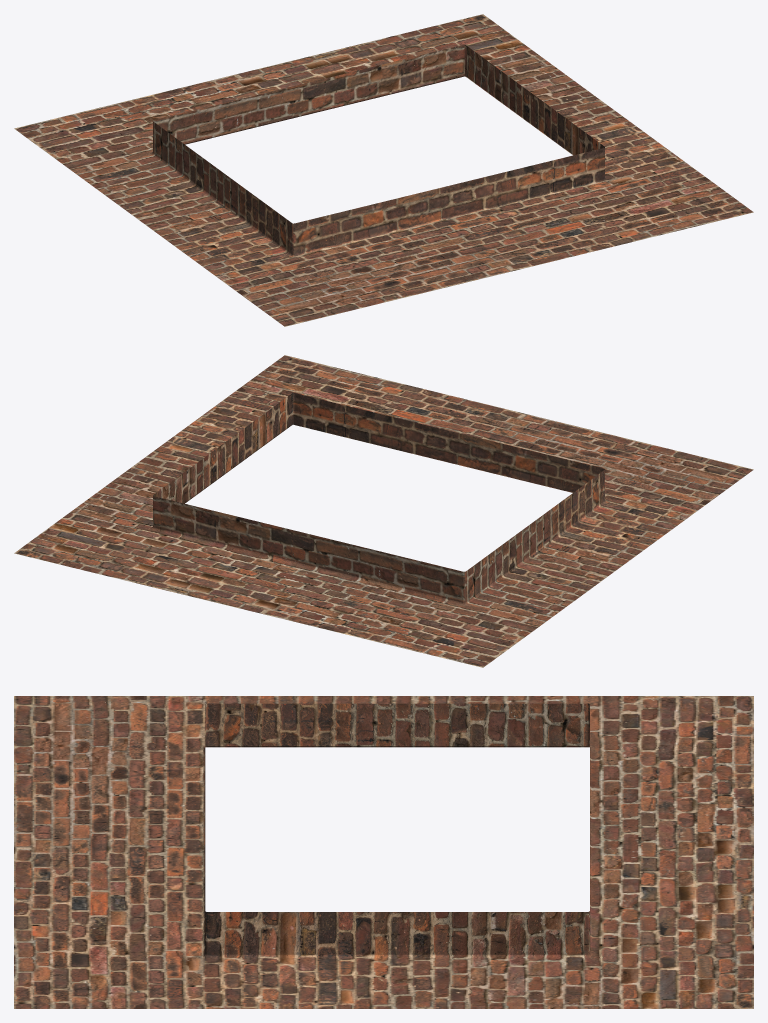
Rendered from wall_window_centered_large_01.gltf.
3 views of the same model, one above another, from view 1: azimuth 30°, elevation 25°; view 2: azimuth 150°, elevation 25°; view 3: azimuth 270°, elevation 25° (orthographic). The views are drawn at different scales.
Parts seen in each view (by area): view 1: wall_window_centered_large_01; view 2: wall_window_centered_large_01; view 3: wall_window_centered_large_01.
Boxes of the visible parts, left/top/right/bottom form: wall_window_centered_large_01: left=14, top=14, right=753, bottom=326; wall_window_centered_large_01: left=14, top=355, right=753, bottom=667; wall_window_centered_large_01: left=14, top=696, right=753, bottom=1008.
Size of the model in its own units: 3 by 0.2 by 3.
1 material, 1 textured.
